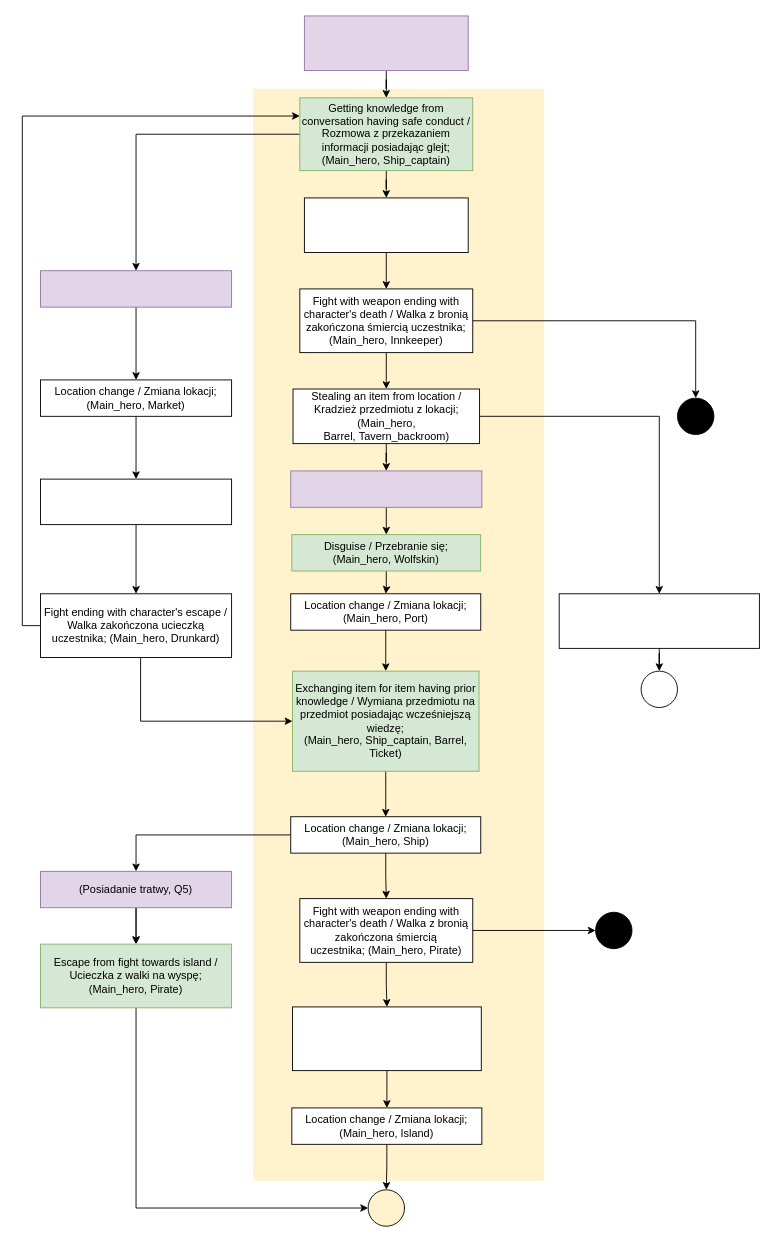
This 775x1242 diagram has some shape labels left out. The box of each missing label's shape, as (x1, y1, x2, y2) in pixels:
(Posiadanie glejtu, Q5): (303, 15, 468, 71)
(Posiadanie pieniędzy, Q5): (40, 270, 232, 307)
(Posiadanie wilczych skór, Q5): (290, 470, 482, 507)
Character’s arrest / Aresztowanie bohatera; (Main_hero, Guard): (558, 593, 759, 648)
Location change / Zmiana lokacji; (Main_hero, Tavern_backroom ): (303, 197, 468, 253)
Making a deal / Transakcja kupna-sprzedaży; (Main_hero, Merchant, Barrel): (40, 478, 232, 525)
Picking item up / Podniesienie przedmiotu; (Main_hero, Coin): (292, 1006, 481, 1071)
